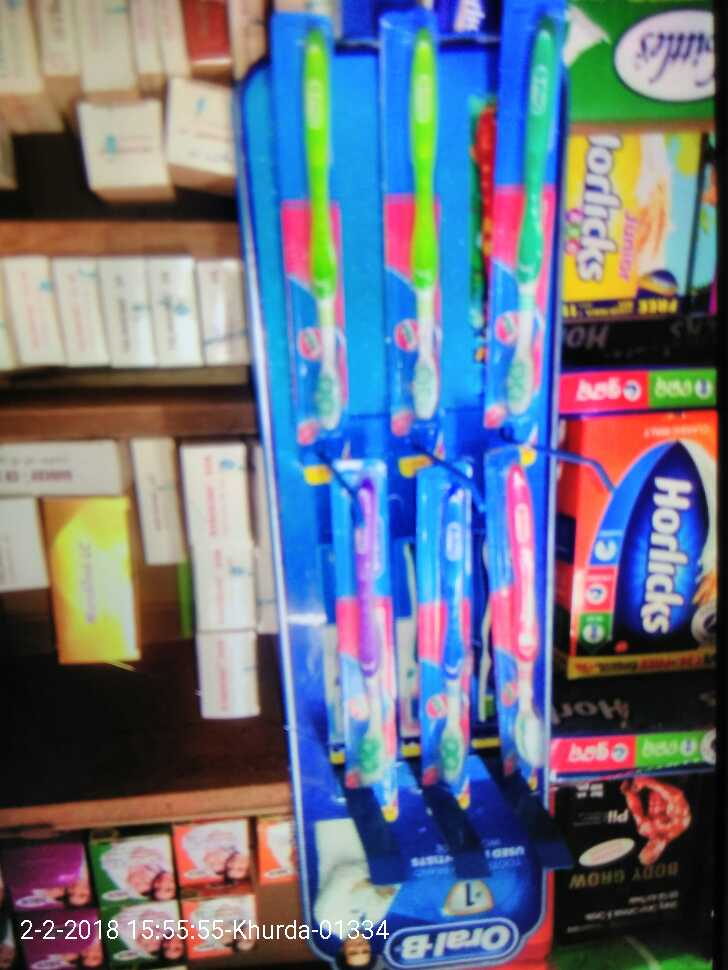oralb: (276, 15, 366, 443), (371, 17, 456, 427), (331, 463, 417, 789), (416, 457, 497, 795), (499, 6, 563, 429), (490, 453, 563, 778)
